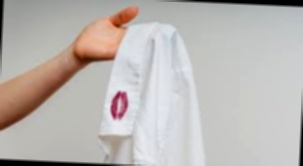lipstick: (110, 84, 129, 125)
